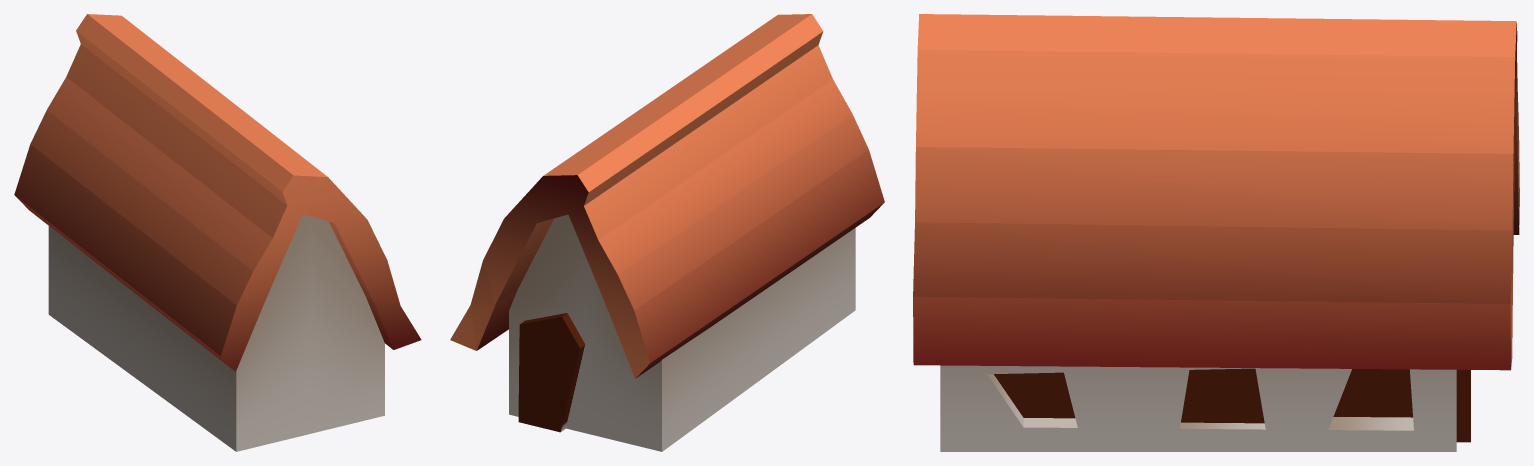
Rendered from haus2_final.fbx.
3 renders of one model, left to right at view 1: azimuth 30°, elevation 25°; view 2: azimuth 150°, elevation 25°; view 3: azimuth 270°, elevation 25°, orthographic. The views are drawn at different scales.
Visible parts, largest first — view 1: haus2_1; view 2: haus2_1; view 3: haus2_1.
Boxes of the visible parts, bbox=[...] form: haus2_1: bbox=[14, 14, 421, 451]; haus2_1: bbox=[450, 14, 884, 451]; haus2_1: bbox=[913, 14, 1519, 451].
Size of the model in its own units: 674 by 836 by 1237.
